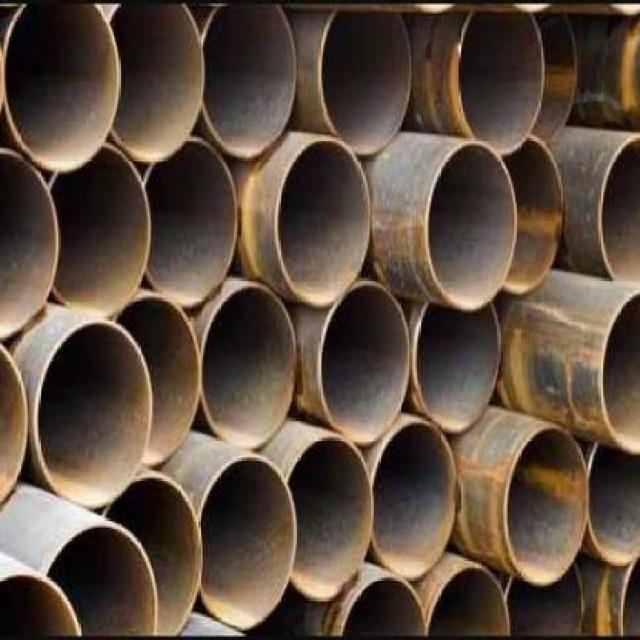pipe: (32, 317, 154, 510), (0, 0, 124, 175), (193, 454, 302, 633), (193, 282, 301, 453), (418, 141, 520, 317), (273, 136, 373, 310), (48, 147, 151, 313), (145, 136, 241, 312), (316, 279, 416, 447), (100, 476, 202, 638), (107, 0, 207, 165), (284, 432, 378, 606), (502, 419, 596, 592), (198, 1, 299, 162), (450, 6, 553, 159), (369, 419, 462, 584), (317, 5, 417, 158), (115, 293, 200, 470), (44, 521, 161, 635), (0, 141, 62, 347), (412, 299, 503, 438), (502, 132, 568, 297), (595, 285, 640, 458), (595, 130, 640, 284), (422, 564, 513, 640), (586, 443, 640, 569), (0, 566, 83, 640), (337, 574, 431, 639)
